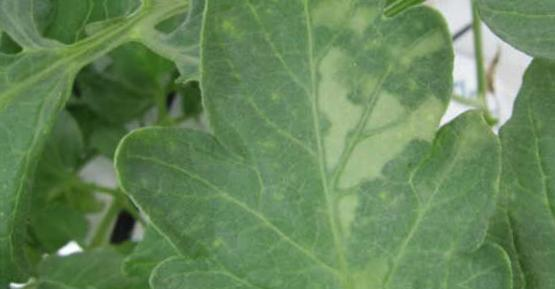Tomato leaf bacterial spot: (113, 0, 516, 289)
